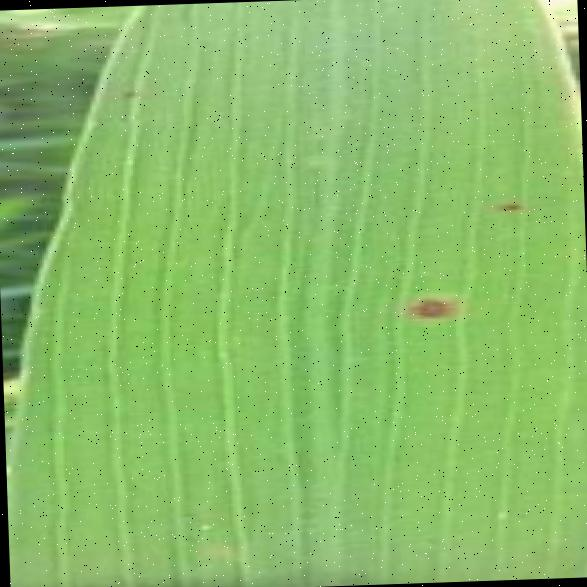Brown_Spot: (397, 282, 461, 329), (485, 192, 532, 214), (114, 79, 144, 104)
